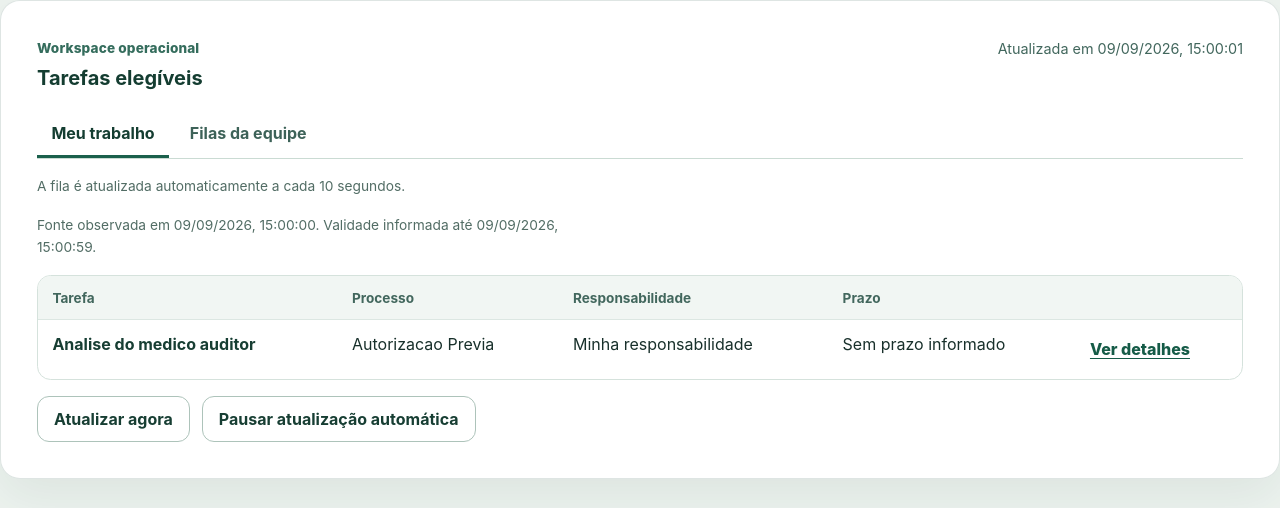
F-100: pausar nao estende a validade informada; a fila vencida sai da tela
The width and height of the screenshot is (1280, 508).
Click the button "Pausar atualização automática".
click(339, 419)  # box [202,396,476,442]
Wait 58000 ms
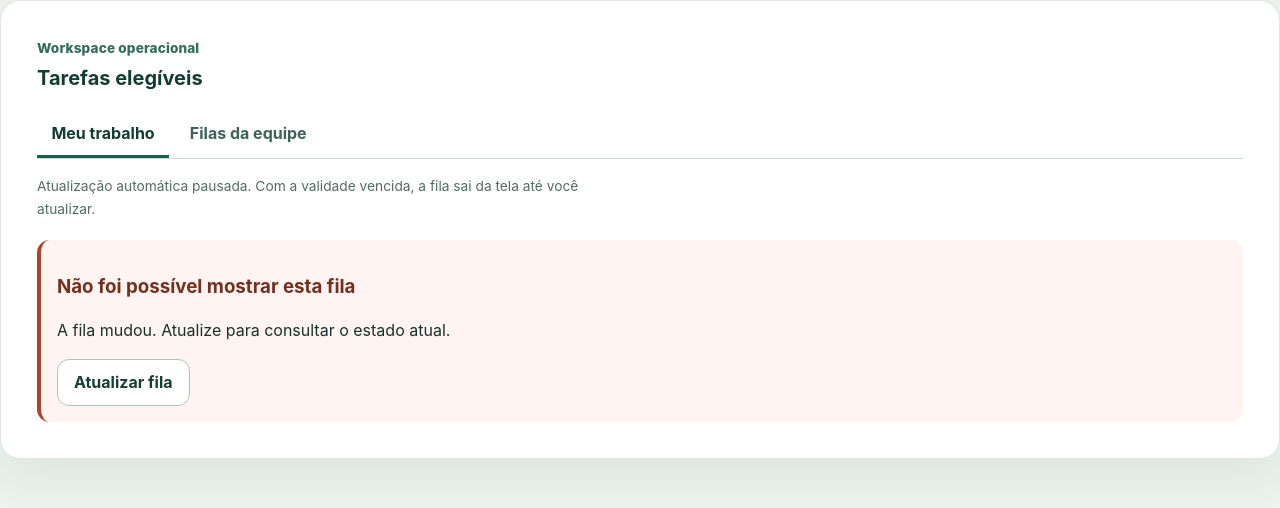
Expected: the table is gone
Expected: the message shows "A fila mudou", [57,320,450,340]
